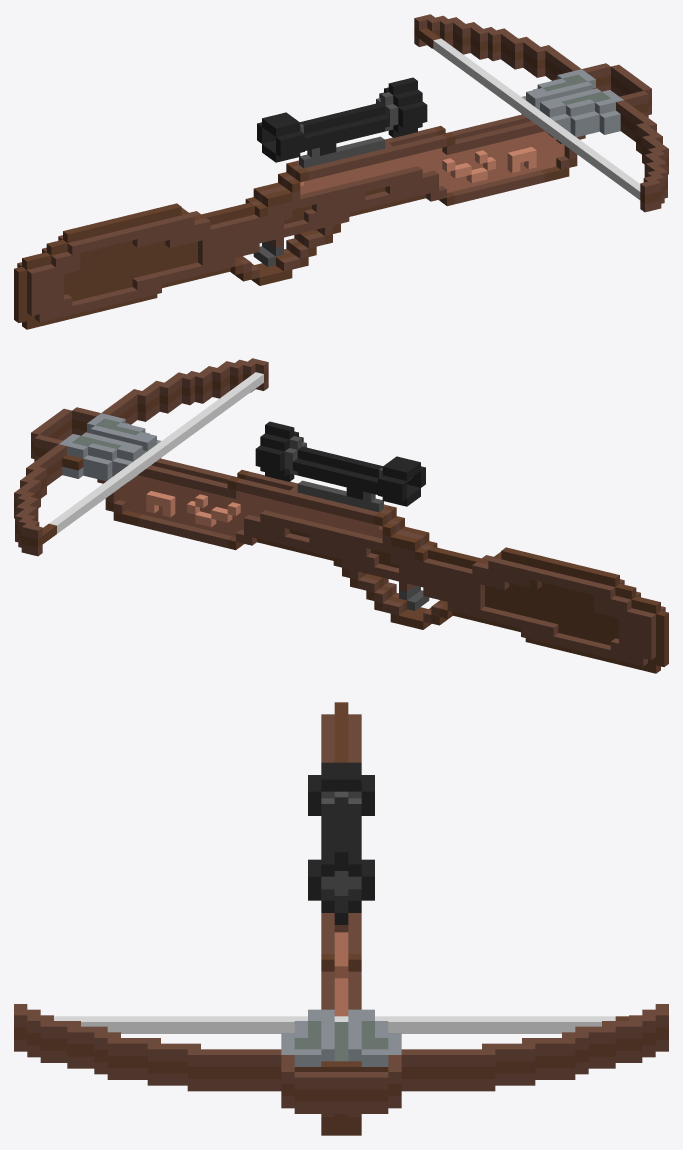
File: weapon_crossbow.glb
3 views of the same model, one above another, from view 1: azimuth 30°, elevation 25°; view 2: azimuth 150°, elevation 25°; view 3: azimuth 270°, elevation 25° (orthographic). The views are drawn at different scales.
Parts seen in each view (by area): view 1: weapon_crossbow; view 2: weapon_crossbow; view 3: weapon_crossbow.
Part boxes in pixels (box(x1,y1,x2,y2)): weapon_crossbow: box(14, 14, 668, 329); weapon_crossbow: box(14, 358, 668, 673); weapon_crossbow: box(14, 702, 668, 1135).
Bounding box in the file's own units: 7.6 × 1.9 × 4.9.
Materials: 1 (1 with a texture image).
